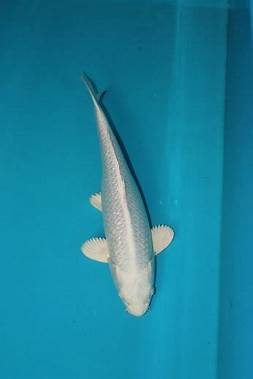white: (81, 71, 177, 316)
